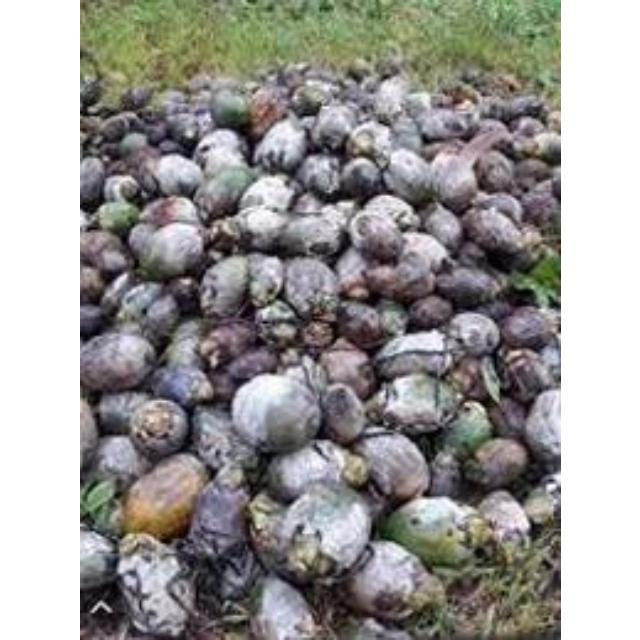damaged: (114, 534, 198, 636), (284, 486, 372, 574), (380, 495, 480, 571), (120, 452, 206, 540), (230, 372, 320, 452), (181, 471, 253, 564), (368, 372, 458, 436), (355, 430, 427, 502), (264, 441, 344, 501), (80, 331, 156, 394), (248, 576, 316, 640), (130, 222, 204, 280), (439, 578, 511, 636), (192, 406, 254, 472), (197, 542, 263, 604), (126, 396, 190, 459), (372, 330, 452, 380), (462, 436, 528, 492), (280, 256, 338, 318), (473, 491, 531, 553), (314, 345, 374, 403), (425, 149, 481, 211), (197, 255, 251, 318), (475, 597, 553, 639), (378, 148, 434, 206), (462, 204, 524, 256), (317, 381, 367, 443), (278, 210, 342, 258), (194, 168, 253, 220), (252, 117, 308, 171), (438, 402, 492, 458), (432, 264, 498, 308), (500, 349, 552, 403), (508, 251, 558, 307), (198, 320, 256, 368), (442, 311, 500, 359), (522, 389, 558, 466), (351, 210, 404, 262), (382, 250, 436, 300), (396, 571, 449, 621), (89, 433, 143, 482), (148, 366, 208, 410), (332, 299, 386, 347), (498, 307, 556, 351), (275, 352, 327, 400), (235, 204, 288, 250), (80, 527, 118, 591), (448, 128, 508, 168), (113, 282, 165, 328), (96, 390, 150, 434), (80, 229, 128, 277), (162, 320, 206, 372), (398, 231, 447, 277), (79, 478, 119, 534), (446, 354, 492, 402), (245, 87, 289, 137), (136, 196, 200, 230), (245, 252, 285, 306), (238, 175, 294, 213), (192, 129, 245, 169), (152, 154, 202, 196), (138, 291, 180, 341), (253, 300, 300, 344), (222, 348, 276, 386), (310, 104, 356, 148), (420, 204, 462, 252), (332, 616, 416, 640), (296, 154, 340, 198), (344, 120, 392, 160), (417, 108, 473, 142), (80, 602, 130, 640), (334, 245, 370, 297), (472, 148, 514, 192), (516, 184, 558, 228), (360, 193, 414, 227), (515, 229, 555, 273), (522, 480, 558, 528), (208, 86, 248, 128), (338, 156, 378, 198), (492, 395, 530, 439), (98, 272, 136, 316), (426, 452, 462, 498), (372, 75, 408, 121), (92, 200, 140, 233), (473, 192, 521, 224), (408, 294, 452, 328), (132, 152, 166, 196), (202, 216, 240, 254), (117, 530, 161, 562), (290, 82, 332, 115), (164, 276, 202, 312), (95, 112, 135, 146), (163, 112, 200, 148), (204, 368, 242, 402), (436, 84, 482, 112), (356, 485, 388, 525), (80, 156, 106, 204), (374, 300, 408, 336), (510, 157, 550, 187), (363, 264, 403, 294), (526, 131, 560, 165), (388, 116, 420, 152), (509, 116, 547, 146), (100, 174, 140, 202), (300, 318, 336, 349), (295, 66, 339, 90), (470, 118, 510, 144), (401, 91, 434, 122), (336, 82, 370, 112), (79, 302, 107, 338), (118, 84, 154, 112), (126, 222, 154, 258), (506, 95, 544, 121), (116, 131, 150, 159), (110, 320, 144, 348), (273, 63, 309, 89), (79, 264, 105, 300), (140, 116, 170, 146), (454, 238, 486, 266), (79, 75, 105, 109), (192, 106, 216, 142), (292, 191, 326, 215), (79, 114, 105, 144), (488, 73, 522, 95), (155, 90, 187, 110), (421, 140, 453, 160), (373, 58, 402, 80), (102, 159, 130, 181), (100, 68, 128, 90), (456, 66, 484, 86), (186, 74, 214, 92), (156, 138, 184, 156), (350, 58, 372, 76), (546, 108, 560, 134)
